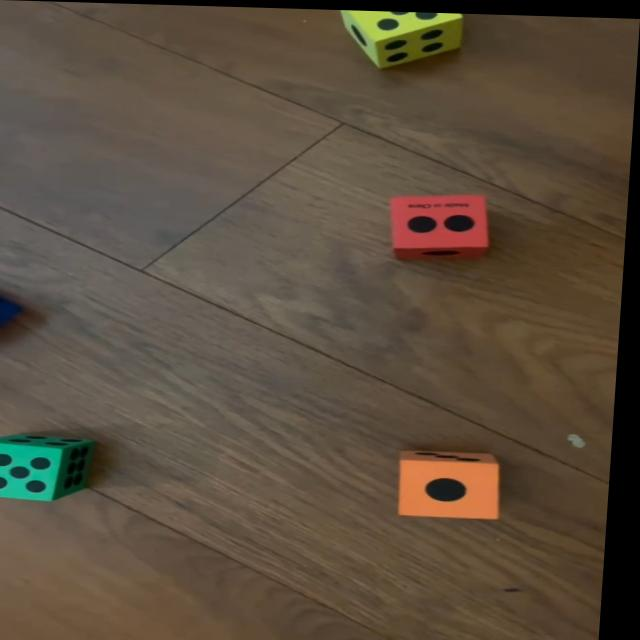blue_block: (0, 291, 23, 342)
red_block: (389, 189, 497, 260)
